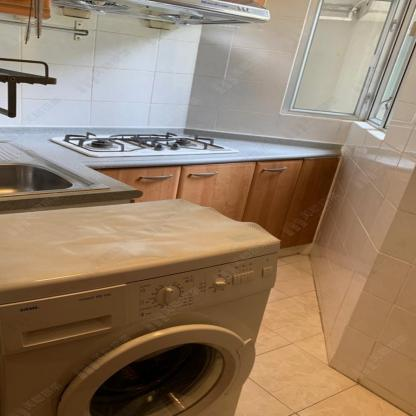Exhaust Hood: (47, 0, 268, 32)
Stove: (18, 127, 265, 164)
Washing Machine: (0, 196, 283, 416)
